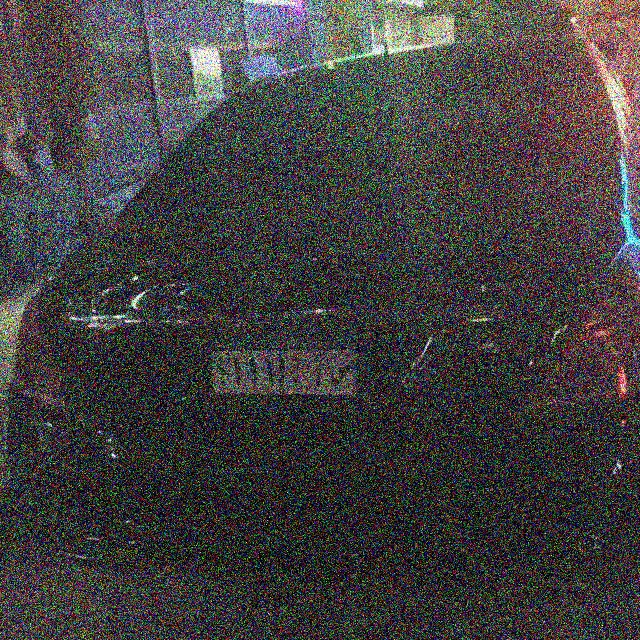License Plate: (206, 313, 360, 401)
